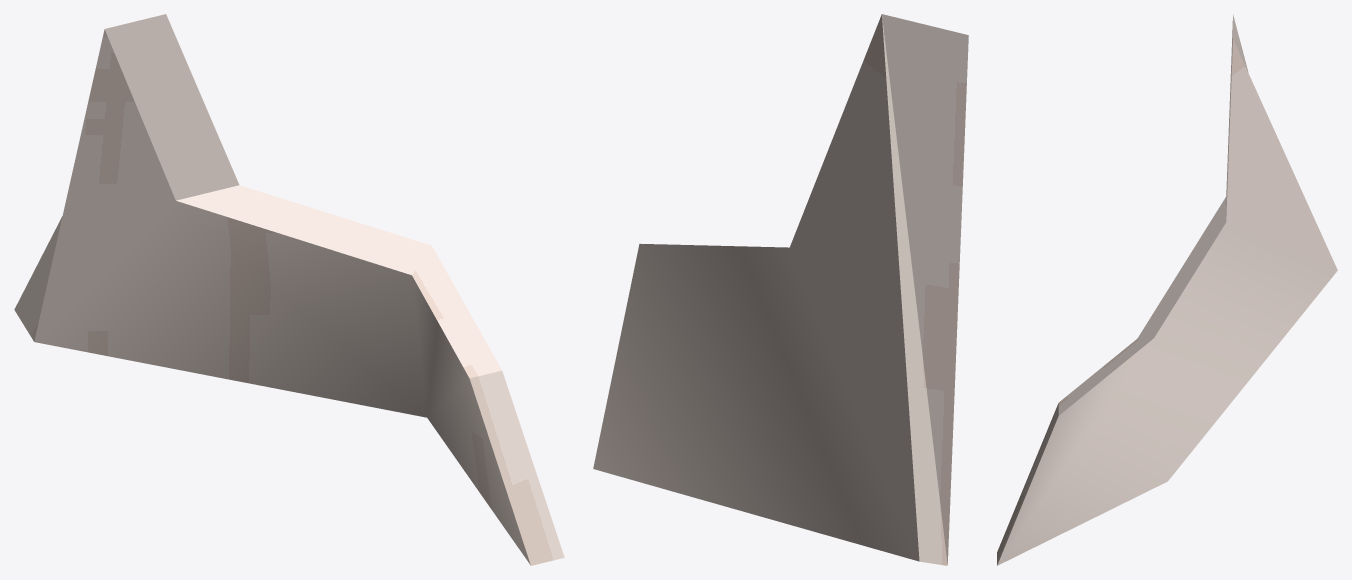
The model's file is wine_glass_gib_03.glb.
3 views of the same model, side by side, from view 1: azimuth 30°, elevation 25°; view 2: azimuth 150°, elevation 25°; view 3: azimuth 270°, elevation 25° (orthographic). The views are drawn at different scales.
Visible parts, largest first — view 1: gib_03; view 2: gib_03; view 3: gib_03.
Part boxes in pixels (<box>): gib_03: <box>14,14,564,565</box>; gib_03: <box>593,14,968,565</box>; gib_03: <box>997,14,1337,565</box>.
Bounding box in the file's own units: 0.1497 × 0.2076 × 0.1521.
Materials: 1 (1 with a texture image).
